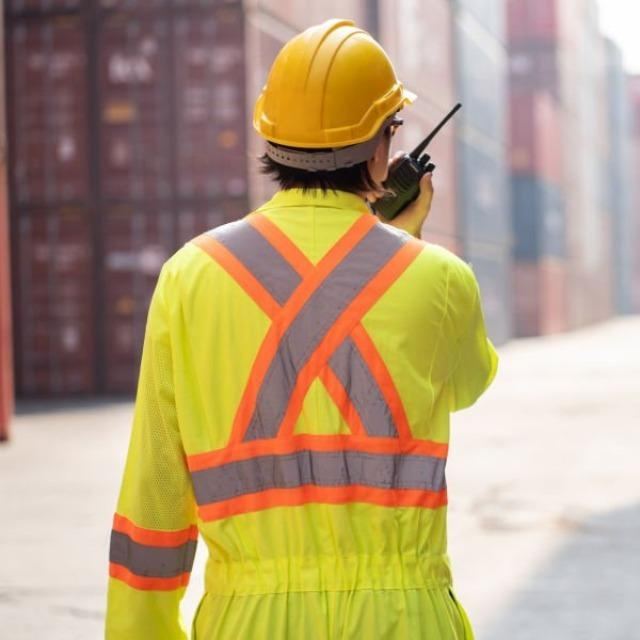Con_Casco: (255, 20, 417, 195)
Con_Chaleco: (162, 212, 462, 567)
